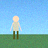person: (10, 16, 21, 39)
